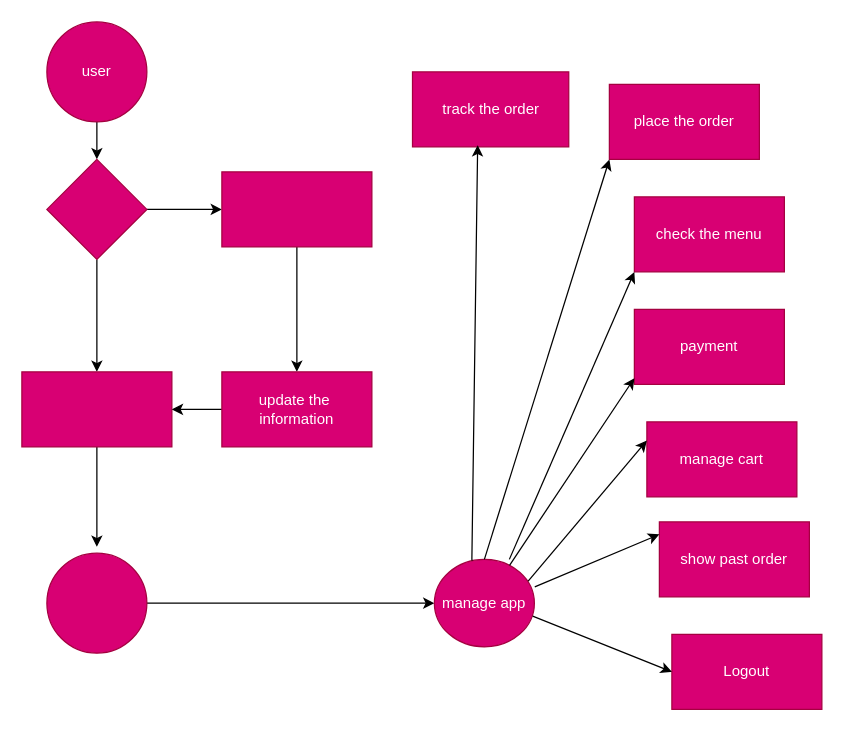
Image size: 844x731. Some labels were removed from this diagram. The centre of each missing label's shape, as x and y in pixels:
"check credentials" belongs at point (96, 602).
"have account" belongs at point (96, 208).
"login" belongs at point (96, 409).
"sign up with email" belongs at point (296, 209).
